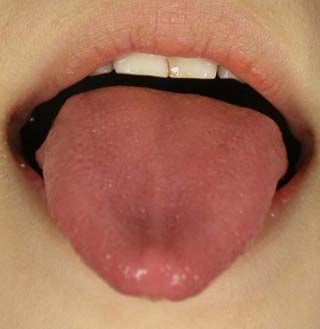hongshe: (35, 86, 288, 302)
